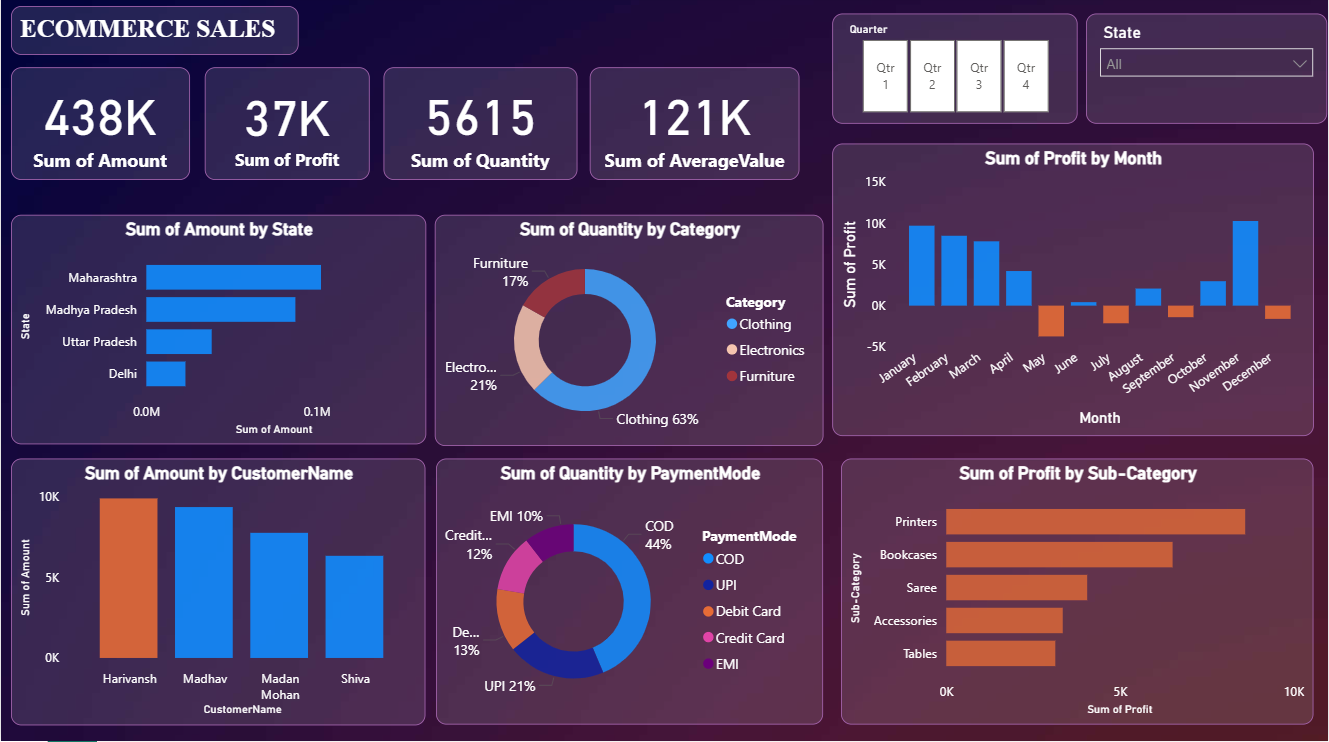

What the dashboard file says about the page in this screenshot:
{"tool":"powerbi","page":{"name":"Page 1","canvas":[1280,720],"ordinal":0},"visuals":[{"type":"textbox","box":[9.7,9.7,277.5,47.1],"z":0},{"type":"columnChart","title":"Sum of Profit by Month","fields":{"Y":["Details.Profit"],"Category":["Orders.Order Date.Variation.Date Hierarchy.Month"]},"box":[802.3,142.4,464.5,282.3],"z":1000},{"type":"barChart","fields":{"Category":["Details.Sub-Category"],"Y":["Details.Profit"]},"box":[810.7,446.4,456,257],"z":2000},{"type":"donutChart","fields":{"Category":["Details.Category"],"Y":["Details.Quantity"]},"box":[418.6,211.1,375.2,223.2],"z":3000},{"type":"donutChart","fields":{"Category":["Details.PaymentMode"],"Y":["Details.Quantity"]},"box":[419.8,446.4,374,257],"z":4000},{"type":"card","fields":{"Values":["Details.Amount"]},"box":[9.7,68.8,172.5,108.6],"z":5000},{"type":"card","fields":{"Values":["Details.Profit"]},"box":[196.6,68.8,159.3,108.6],"z":6000},{"type":"card","fields":{"Values":["Details.Quantity"]},"box":[369.2,68.8,187,108.6],"z":7000},{"type":"card","fields":{"Values":["Details.AverageValue"]},"box":[568.2,68.8,202.7,108.6],"z":8000},{"type":"barChart","fields":{"Category":["Orders.State"],"Y":["Details.Amount"]},"box":[9.7,211.1,400.5,222],"z":9000},{"type":"columnChart","fields":{"Category":["Orders.CustomerName"],"Y":["Details.Amount"]},"box":[10,446.2,400,257.5],"z":10000},{"type":"slicer","fields":{"Values":["Orders.Order Date.Variation.Date Hierarchy.Quarter"]},"box":[802.3,16.9,236.5,106.2],"z":11000},{"type":"slicer","fields":{"Values":["Orders.State"]},"box":[1047.2,16.9,232.8,106.2],"z":12000}]}

Visuals, with their boxes in screenshot pixels (x1, y1, x2, y2), scaled from the page's 1280x720 canvas onto the 1329x742 screenshot:
textbox: <region>10, 10, 298, 59</region>
"Sum of Profit by Month" columnChart: <region>833, 147, 1315, 438</region>
barChart - Details.Sub-Category x Details.Profit: <region>842, 460, 1315, 725</region>
donutChart - Details.Category x Details.Quantity: <region>435, 218, 824, 448</region>
donutChart - Details.PaymentMode x Details.Quantity: <region>436, 460, 824, 725</region>
card - Details.Amount: <region>10, 71, 189, 183</region>
card - Details.Profit: <region>204, 71, 370, 183</region>
card - Details.Quantity: <region>383, 71, 577, 183</region>
card - Details.AverageValue: <region>590, 71, 800, 183</region>
barChart - Orders.State x Details.Amount: <region>10, 218, 426, 446</region>
columnChart - Orders.CustomerName x Details.Amount: <region>10, 460, 426, 725</region>
slicer - Orders.Order Date.Variation.Date Hierarchy.Quarter: <region>833, 17, 1079, 127</region>
slicer - Orders.State: <region>1087, 17, 1328, 127</region>
